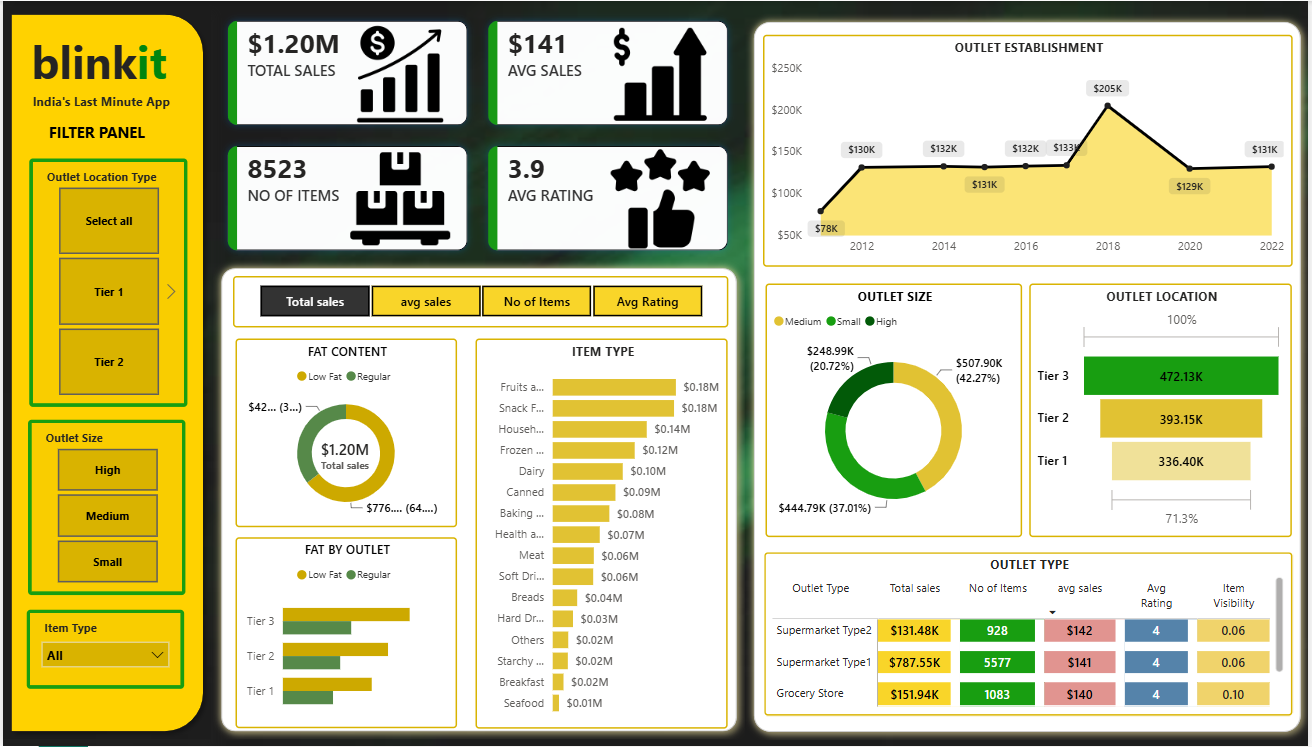

What the dashboard file says about the page in this screenshot:
{"tool":"powerbi","page":{"name":"Page 1","canvas":[1400,800],"ordinal":0},"visuals":[{"type":"shape","box":[0,5.9,223.5,786.8],"z":0},{"type":"textbox","box":[25,26.5,171.1,85.5],"z":1000},{"type":"textbox","box":[26.5,94.1,171.1,34.5],"z":2000},{"type":"cardVisual","fields":{"Data":["BlinkIT Grocery Data.Total sales","BlinkIT Grocery Data.avg sales","BlinkIT Grocery Data.No of Items","BlinkIT Grocery Data.Avg Rating"]},"box":[225.2,5.4,569.7,278.8],"z":3000},{"type":"shape","box":[225,277.9,570.6,514.7],"z":4000},{"type":"donutChart","title":"FAT CONTENT","fields":{"Y":["BlinkIT Grocery Data.Total sales"],"Category":["BlinkIT Grocery Data.Item Fat Content"]},"box":[249.3,361.9,237.3,202.4],"z":5000},{"type":"slicer","fields":{"Values":["Metrics.Metrics"]},"box":[246.7,294.9,530.8,55],"z":6000},{"type":"cardVisual","fields":{"Data":["BlinkIT Grocery Data.Total sales"]},"box":[309.2,448.8,114.1,75],"z":7000},{"type":"clusteredBarChart","title":"FAT BY OUTLET","fields":{"Y":["BlinkIT Grocery Data.Total sales"],"Category":["BlinkIT Grocery Data.Outlet Location Type"],"Series":["BlinkIT Grocery Data.Item Fat Content"]},"box":[249.3,575.1,237.3,205.1],"z":8000},{"type":"barChart","title":"ITEM TYPE","fields":{"Y":["BlinkIT Grocery Data.Total sales"],"Category":["BlinkIT Grocery Data.Item Type"]},"box":[506.7,361.9,270.8,418.2],"z":11000},{"type":"shape","box":[795.6,13.2,604.4,779.4],"z":12000},{"type":"lineChart","title":"OUTLET ESTABLISHMENT","fields":{"Y":["BlinkIT Grocery Data.Total sales"],"Category":["BlinkIT Grocery Data.Outlet Establishment Year"]},"box":[814.7,36.8,567.6,248.5],"z":13000},{"type":"pieChart","title":"OUTLET SIZE","fields":{"Y":["BlinkIT Grocery Data.Total sales"],"Category":["BlinkIT Grocery Data.Outlet Size"]},"box":[817.6,302.9,274.8,272.1],"z":15000},{"type":"funnel","title":"OUTLET LOCATION","fields":{"Y":["Sum(BlinkIT Grocery Data.Sales)"],"Category":["BlinkIT Grocery Data.Outlet Location Type"]},"box":[1100,302.9,281.5,272.1],"z":17000},{"type":"pivotTable","title":"OUTLET TYPE","fields":{"Rows":["BlinkIT Grocery Data.Outlet Type"],"Values":["BlinkIT Grocery Data.Total sales","BlinkIT Grocery Data.No of Items","BlinkIT Grocery Data.avg sales","BlinkIT Grocery Data.Avg Rating","Avg(BlinkIT Grocery Data.Item Visibility)"]},"box":[816.2,591.2,566.2,175],"z":18000},{"type":"slicer","fields":{"Values":["BlinkIT Grocery Data.Outlet Location Type"]},"box":[28.2,169.2,169.2,266.7],"z":20000},{"type":"slicer","fields":{"Values":["BlinkIT Grocery Data.Outlet Size"]},"box":[26.5,448.5,168.9,187.7],"z":23000},{"type":"slicer","fields":{"Values":["BlinkIT Grocery Data.Item Type"]},"box":[25,652.9,168.9,84.5],"z":24000},{"type":"textbox","box":[38.2,125,150.1,33.5],"z":25000}]}

Visuals, with their boxes in screenshot pixels (x1, y1, x2, y2), scaled from the page's 1400x800 canvas onto the 1312x747 screenshot:
shape: 0,6,209,740
textbox: 23,25,184,105
textbox: 25,88,185,120
cardVisual - BlinkIT Grocery Data.Total sales x BlinkIT Grocery Data.avg sales: 211,5,745,265
shape: 211,259,746,740
"FAT CONTENT" donutChart: 234,338,456,527
slicer - Metrics.Metrics: 231,275,729,327
cardVisual - BlinkIT Grocery Data.Total sales: 290,419,397,489
"FAT BY OUTLET" clusteredBarChart: 234,537,456,729
"ITEM TYPE" barChart: 475,338,729,728
shape: 746,12,1311,740
"OUTLET ESTABLISHMENT" lineChart: 763,34,1295,266
"OUTLET SIZE" pieChart: 766,283,1024,537
"OUTLET LOCATION" funnel: 1031,283,1295,537
"OUTLET TYPE" pivotTable: 765,552,1296,715
slicer - BlinkIT Grocery Data.Outlet Location Type: 26,158,185,407
slicer - BlinkIT Grocery Data.Outlet Size: 25,419,183,594
slicer - BlinkIT Grocery Data.Item Type: 23,610,182,689
textbox: 36,117,176,148
